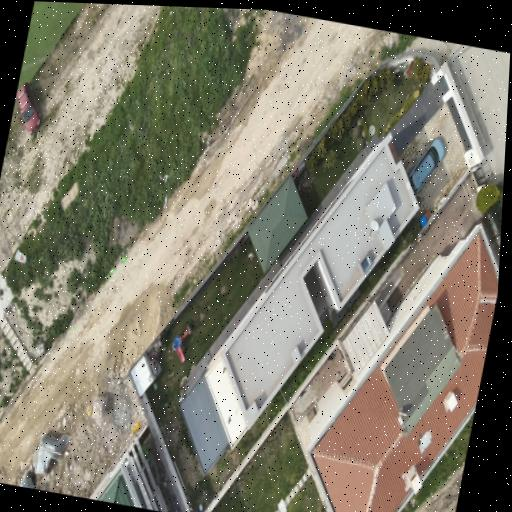car: (409, 138, 445, 193), (17, 83, 40, 133), (498, 169, 512, 224)
